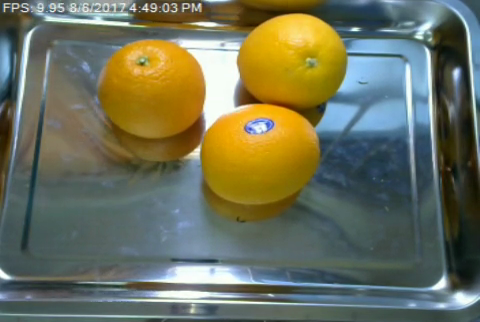Orange: (199, 104, 320, 205), (237, 11, 349, 110), (95, 39, 205, 138)
